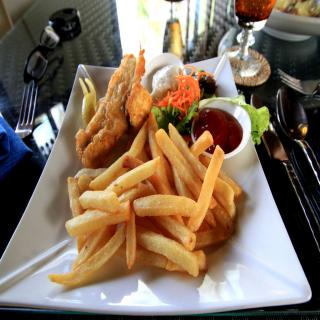French fries: (45, 108, 243, 296)
